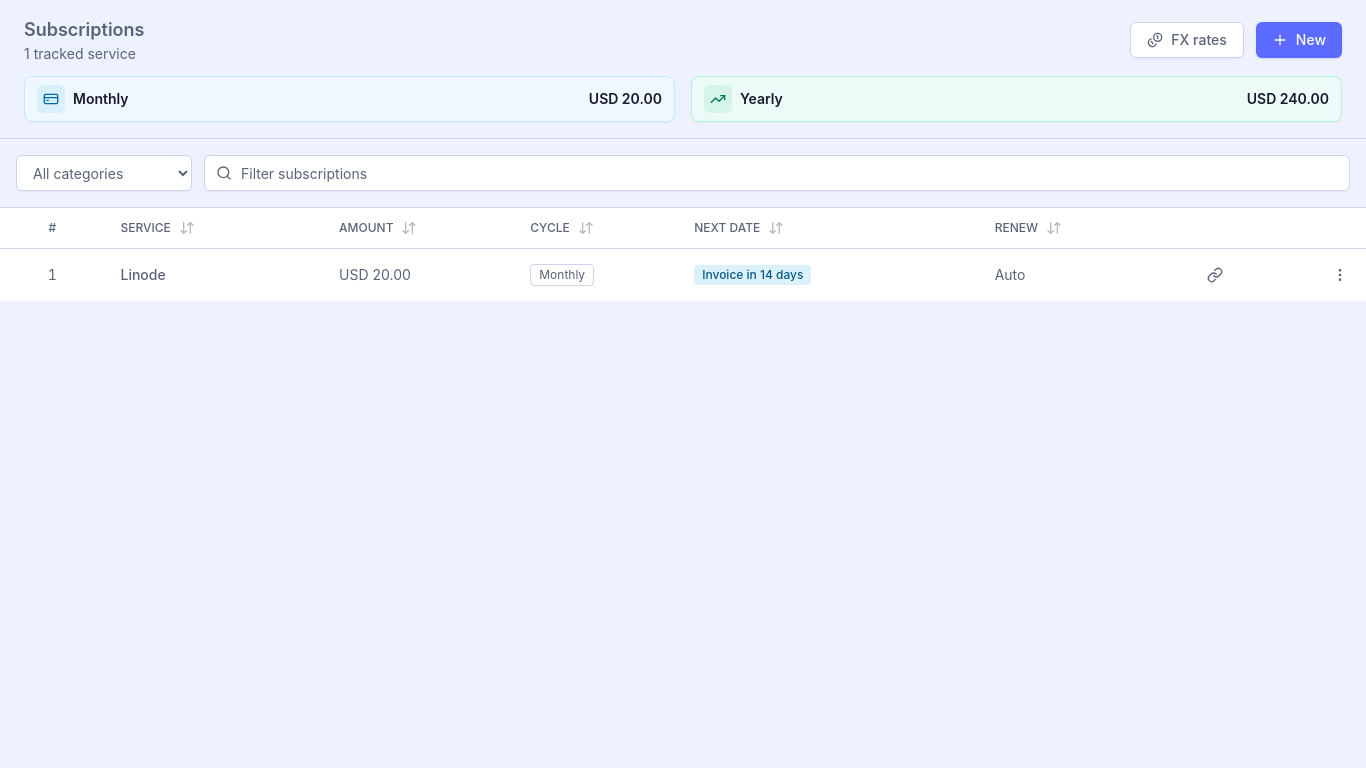
Test case: SubscriptionsListView › opens the shared FX rates view from the header
What coordinates should you click on to do the following:
click the button "FX rates"
I would click on:
 (1187, 40)
Its box is [1130, 22, 1244, 58].
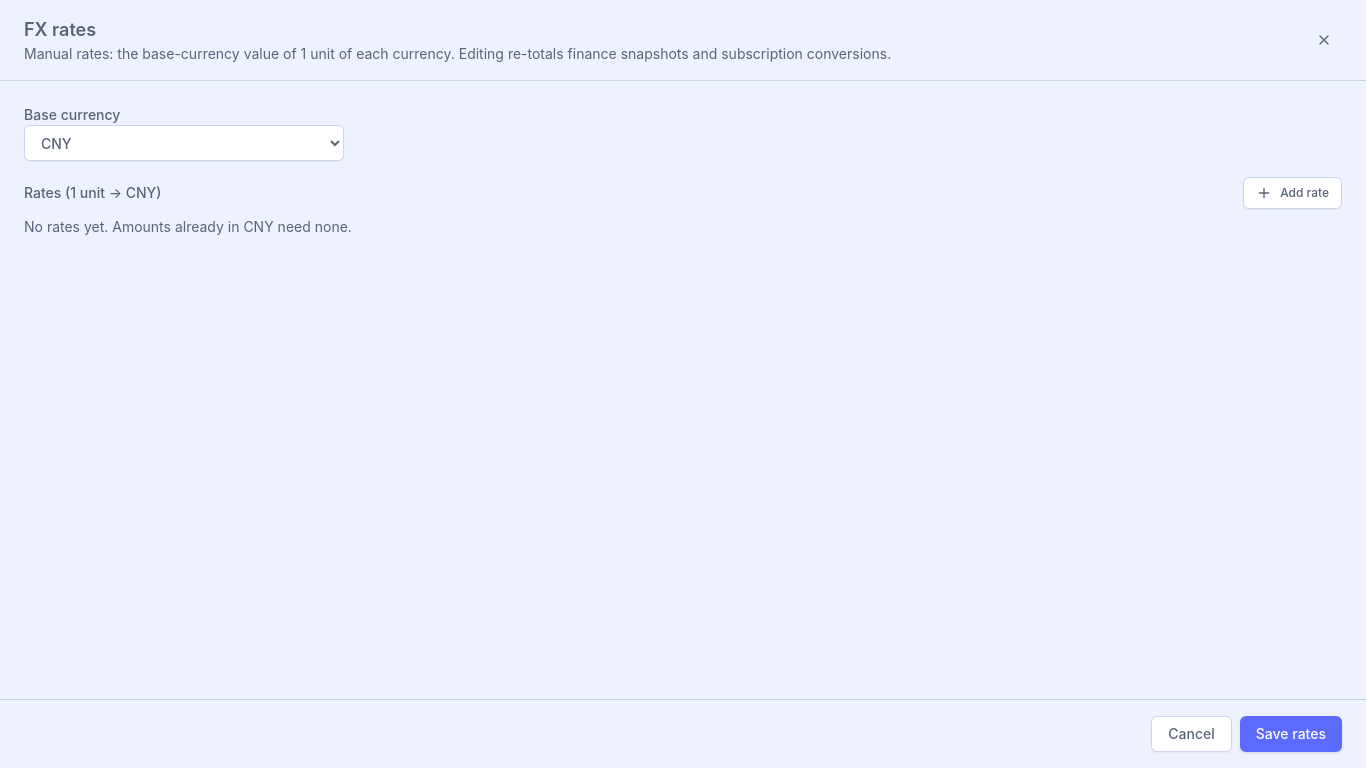
Now the heading "FX rates" is shown, box [24, 19, 96, 40]
What coordinates should you click on to do the following:
click the button named "Close FX rates"
I would click on:
 (1324, 40)
Its box is [1306, 22, 1342, 58].
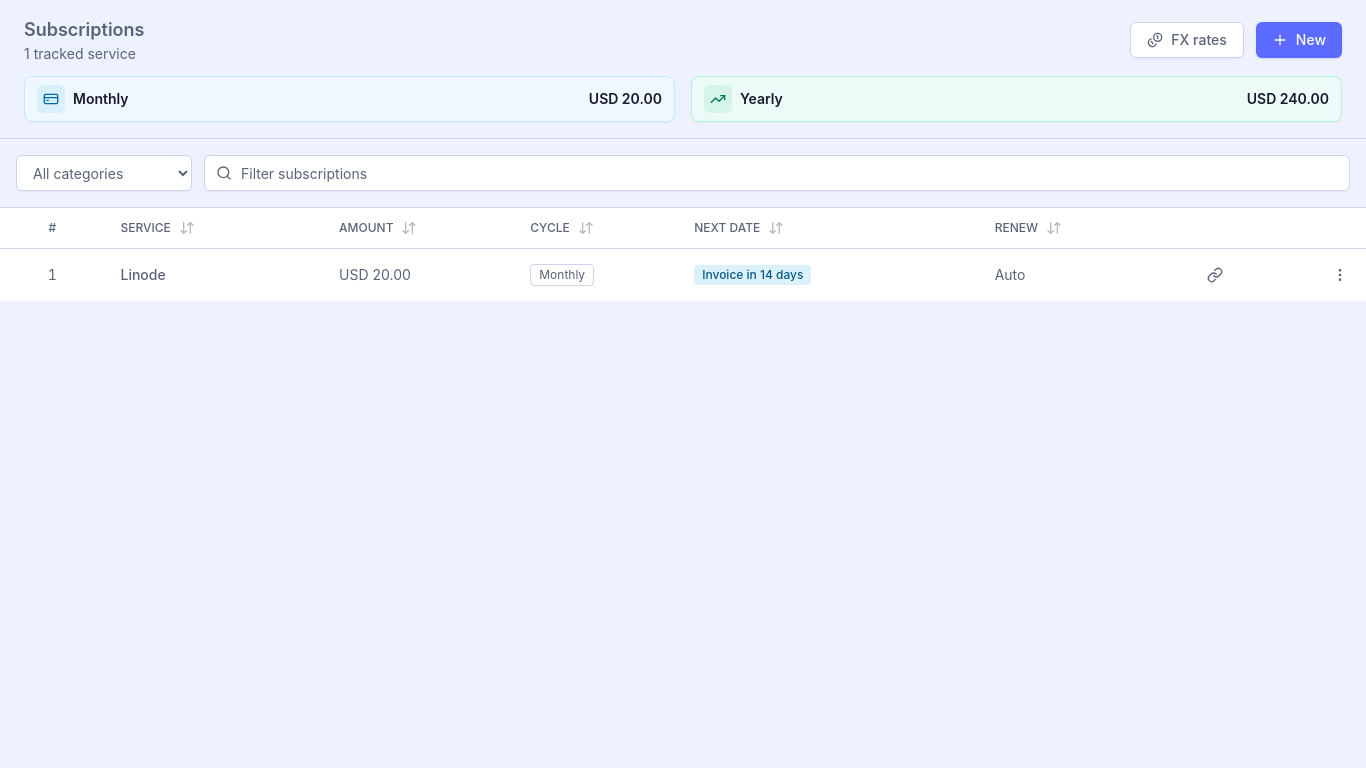
Now the heading "Subscriptions" is shown, box [24, 19, 144, 40]
